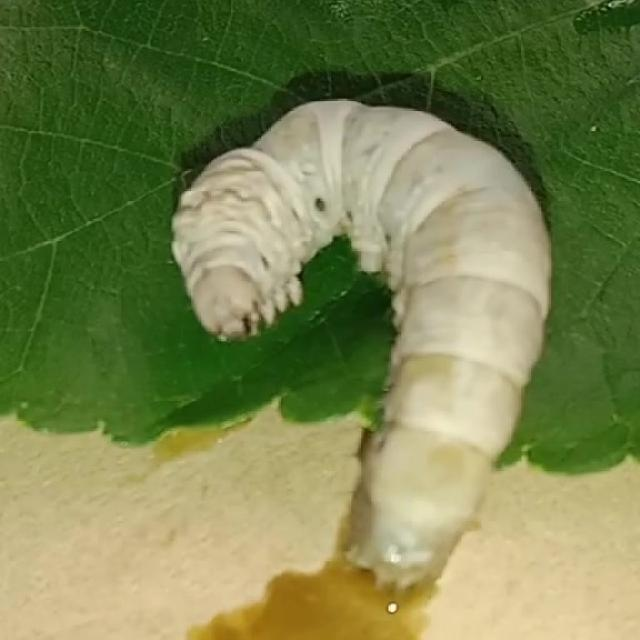Grasserie: (141, 68, 557, 618)
